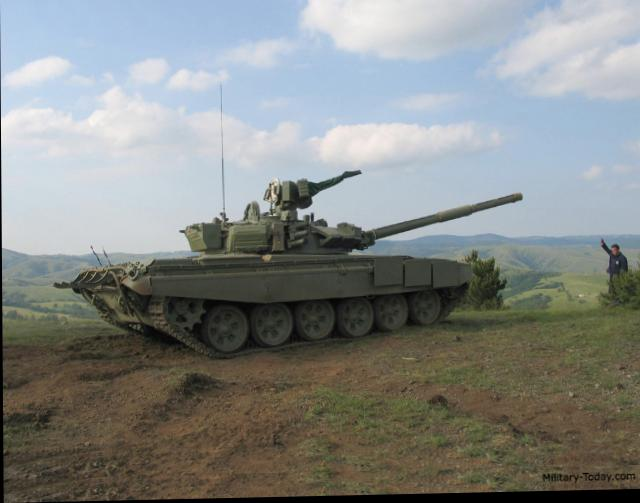other: (592, 226, 631, 288)
tank: (74, 189, 501, 350)
